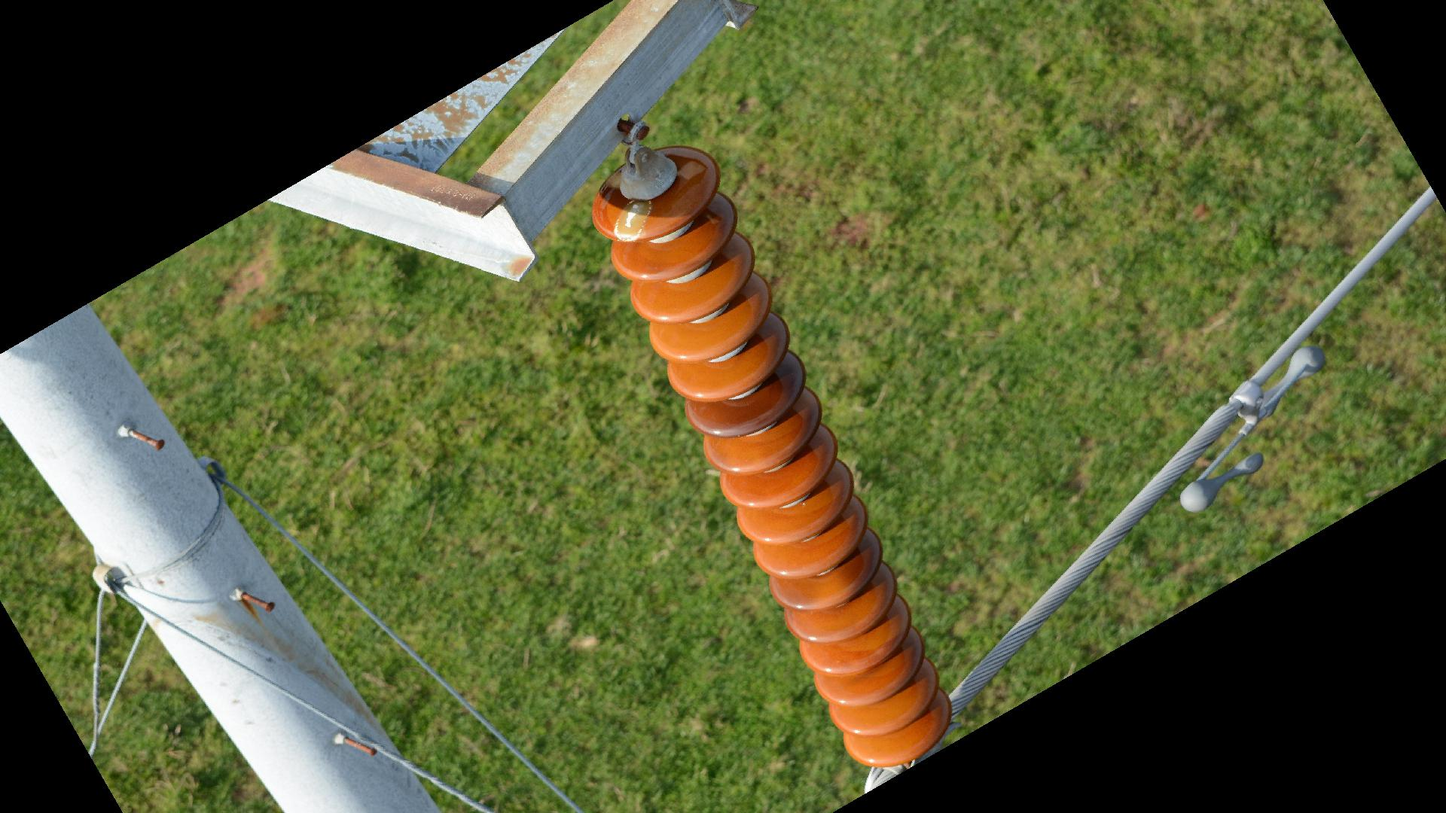insulator: (585, 139, 958, 773)
insulator_flashover: (612, 196, 652, 245)
